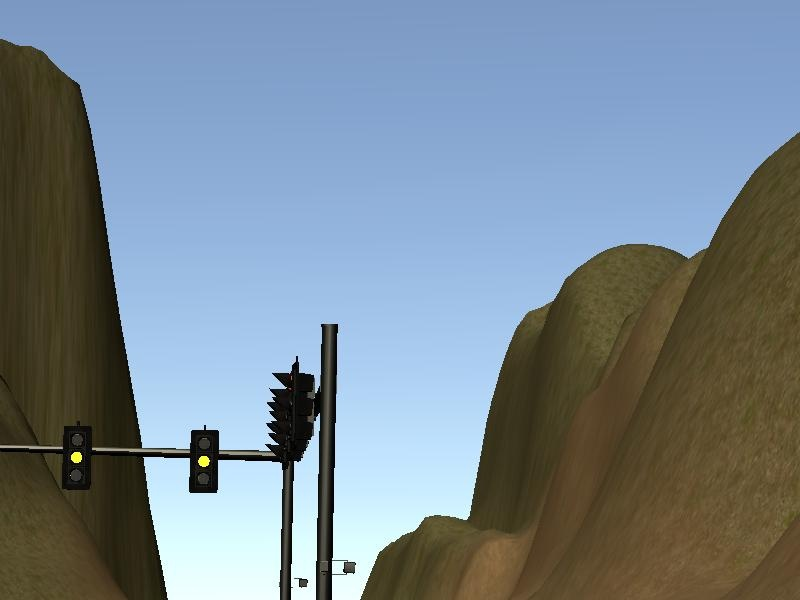yellow: (190, 429, 221, 495), (62, 426, 93, 491)
